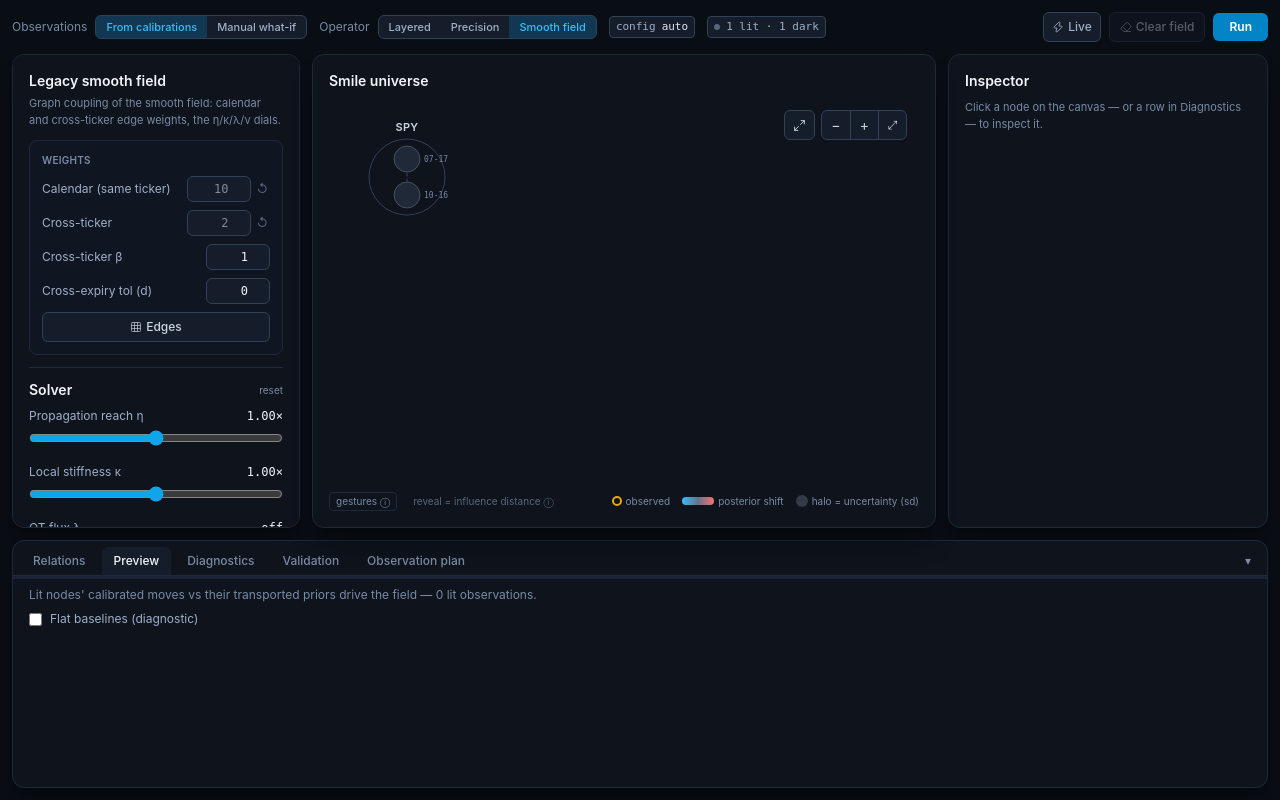
Scenario: Graph shell (U0) › routes Run to the production solve with the request body
What coordinates should you click on to do the following:
click the button "Run"
I would click on:
 (1241, 27)
Its box is left=1214, top=13, right=1268, bottom=41.
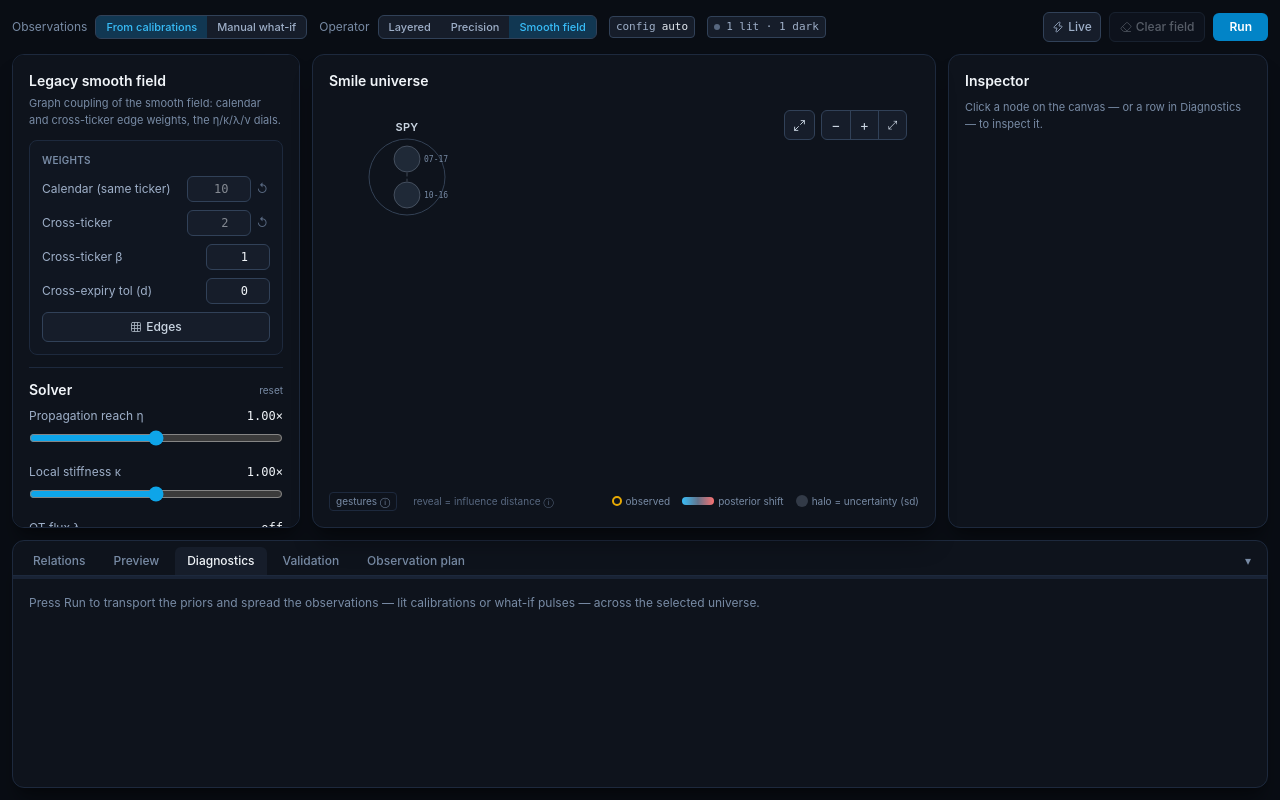
Now the text "Press Run to transport" is shown, box left=29, top=595, right=760, bottom=610
